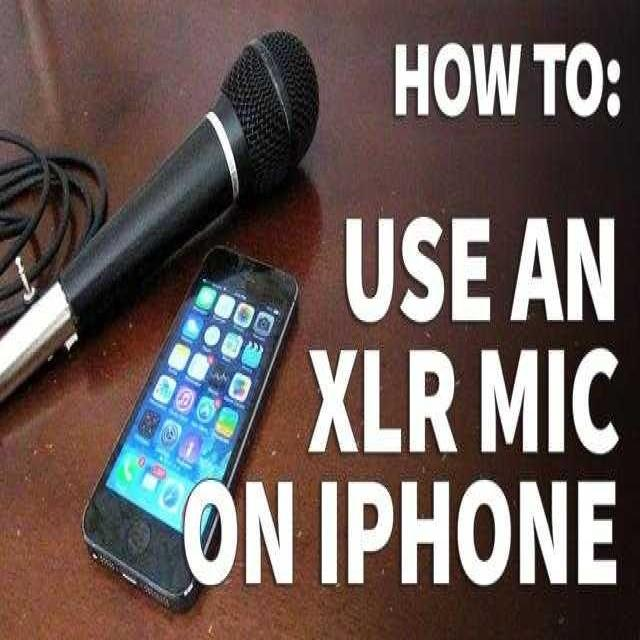microphone: (5, 28, 315, 426)
